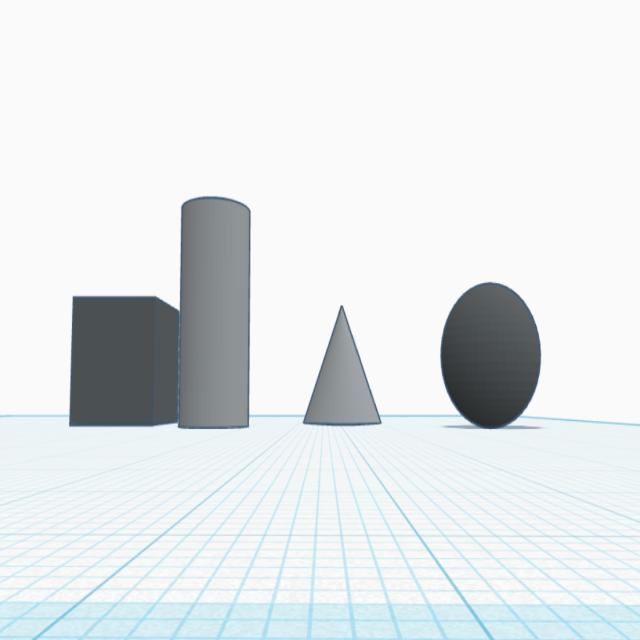cone: (304, 303, 384, 434)
sphere: (437, 277, 544, 432)
